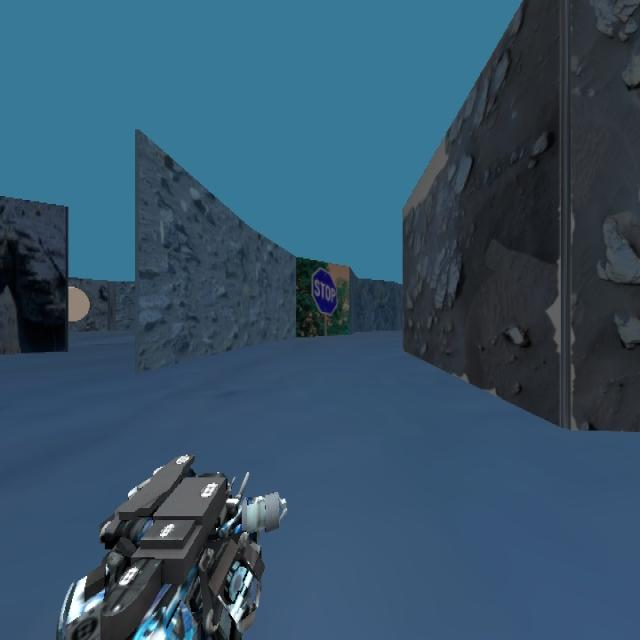Circle: (53, 256, 119, 346)
Stop_Sign: (310, 267, 338, 316)
